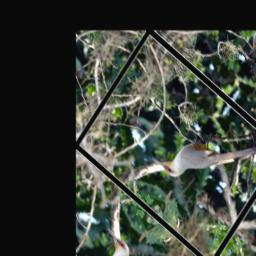Cuckoo: (150, 86, 256, 223)
